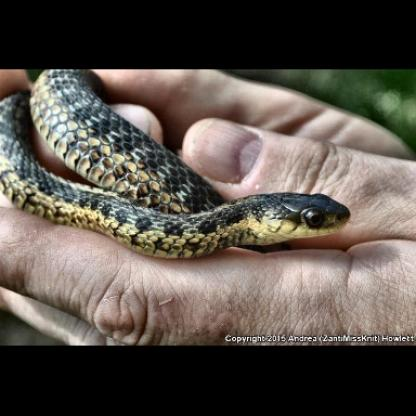Snake: (0, 69, 406, 259)
